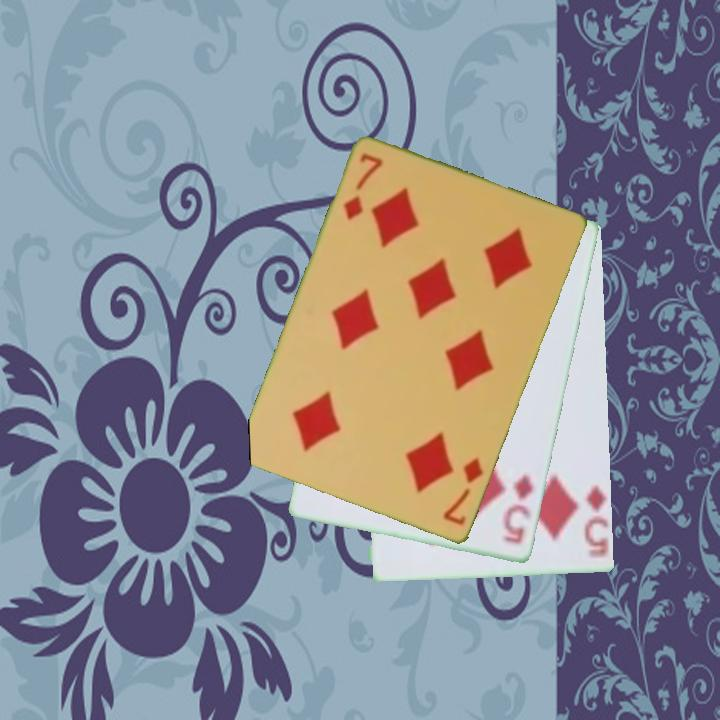5d: (499, 471, 536, 547), (581, 482, 611, 562)
7d: (440, 454, 487, 529), (340, 150, 386, 224)
